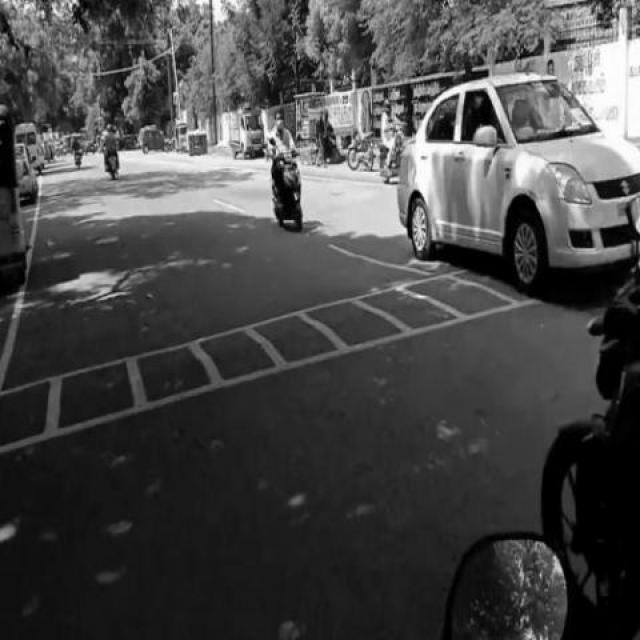Speed Bump: (0, 266, 509, 460)
